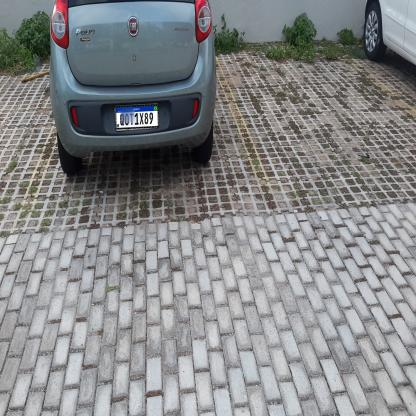PlacaM: (115, 104, 159, 130)
